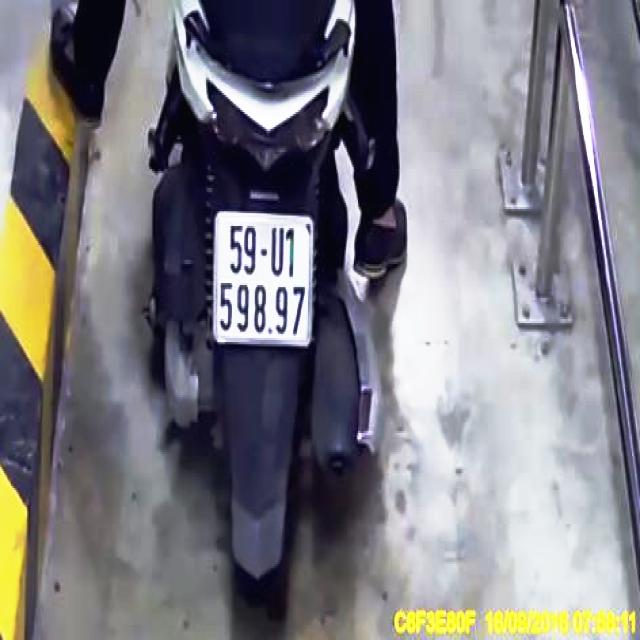license_plate: (214, 210, 314, 347)
